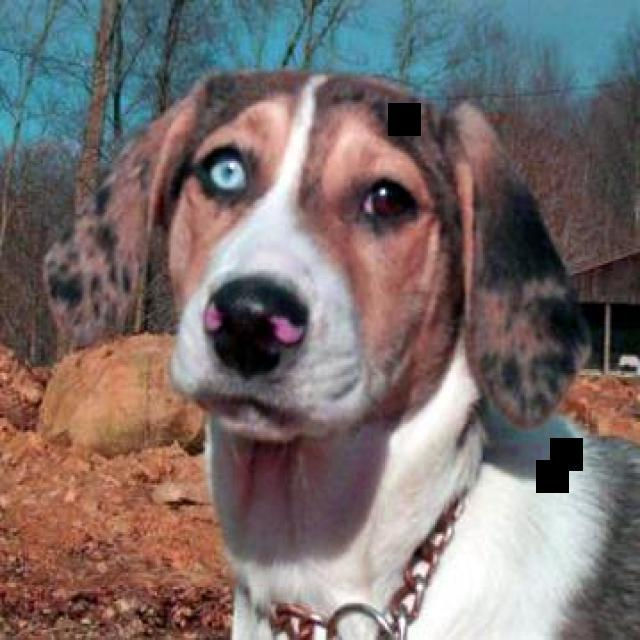adult_dog: (43, 68, 640, 640)
